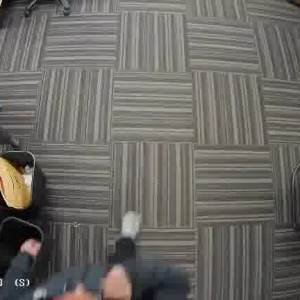person: (19, 227, 196, 300)
